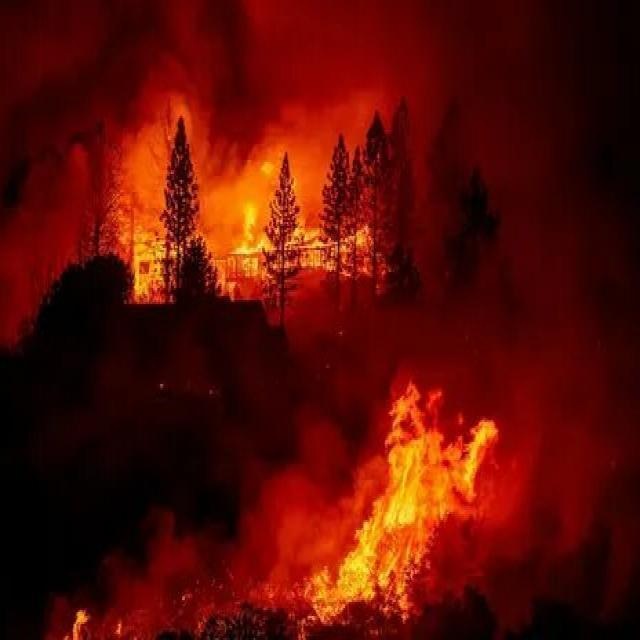Fire: (88, 97, 390, 310), (282, 351, 472, 630)
Smoke: (406, 16, 640, 422), (0, 0, 444, 153)
